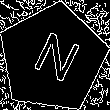N_SW: (23, 27, 82, 90)
